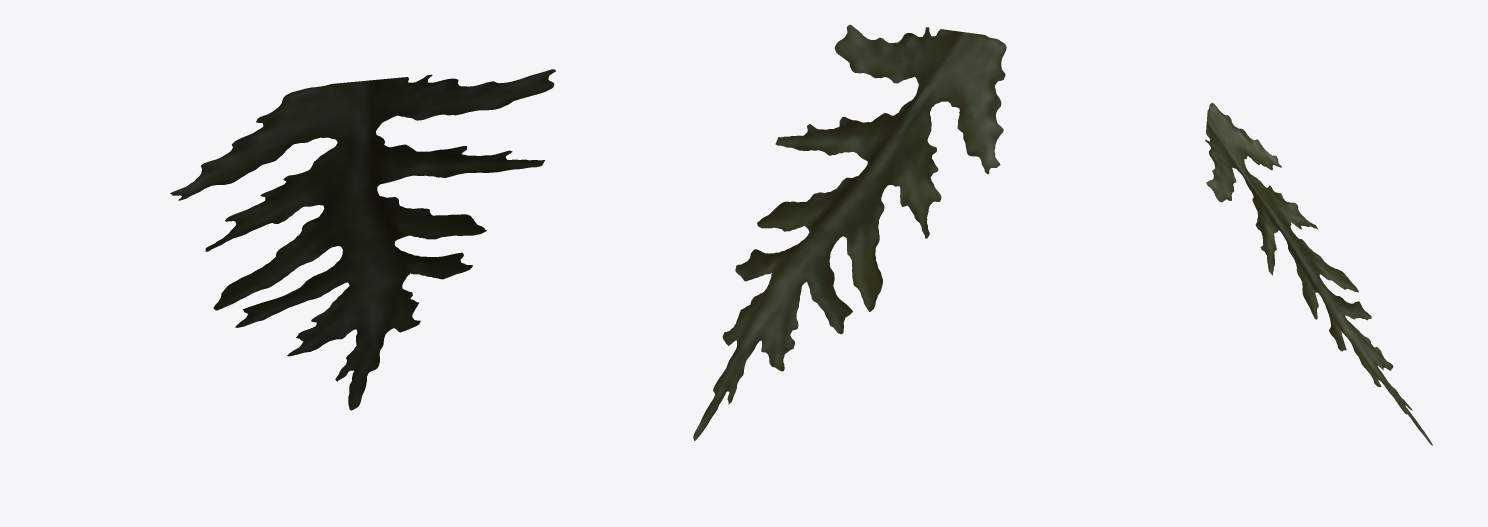
File: MEP_RedFlower_Part_01_S.fbx
3 renders of one model, left to right at view 1: azimuth 30°, elevation 25°; view 2: azimuth 150°, elevation 25°; view 3: azimuth 270°, elevation 25°, orthographic. The views are drawn at different scales.
Parts seen in each view (by area): view 1: MEP_RedFlower_Part_01_S; view 2: MEP_RedFlower_Part_01_S; view 3: MEP_RedFlower_Part_01_S.
Part boxes in pixels (left/top/right/bottom): MEP_RedFlower_Part_01_S: left=170, top=69, right=555, bottom=410; MEP_RedFlower_Part_01_S: left=693, top=24, right=1006, bottom=440; MEP_RedFlower_Part_01_S: left=1205, top=103, right=1432, bottom=445.
Bounding box in the file's own units: 0.4189 × 0.4486 × 0.3183.
